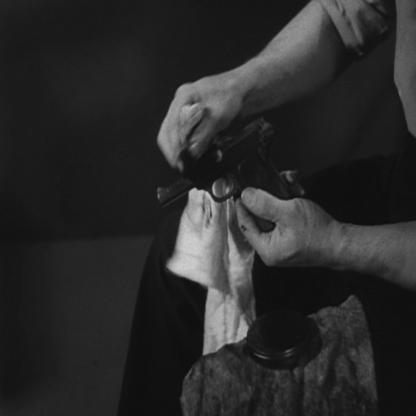gun: (153, 75, 319, 273)
